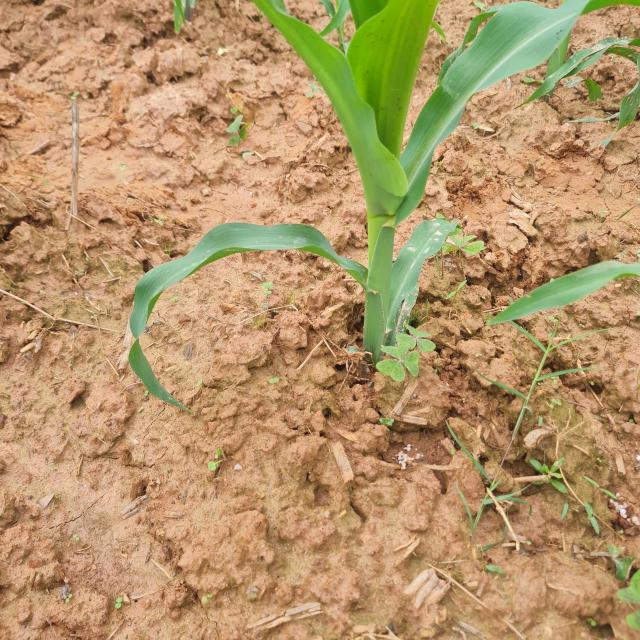maize: (156, 0, 482, 381), (503, 277, 640, 317)
weed: (459, 398, 640, 609), (546, 49, 640, 140)
